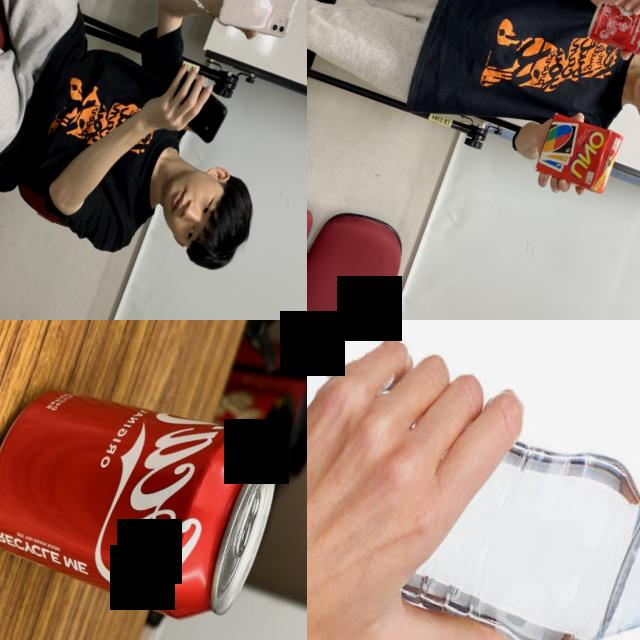bottle: (307, 338, 640, 640)
can: (0, 355, 293, 637), (582, 0, 640, 66)
